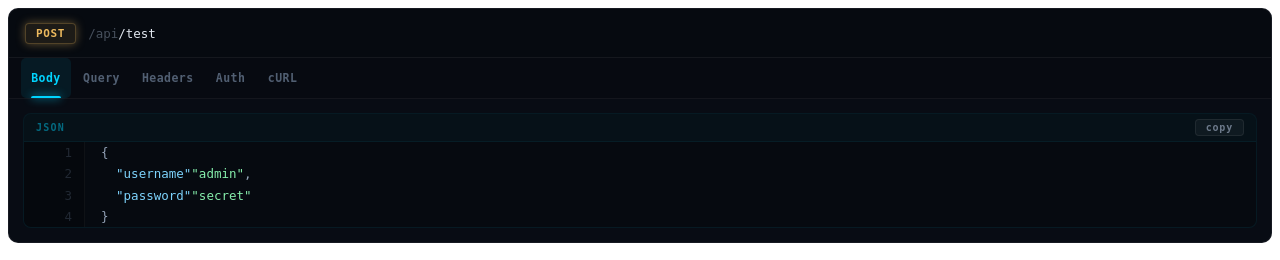
Test case: RequestPanel — masking disabled / selective › shows unmasked values when hideCredentials is false
Click the button "Headers" at [168, 78], box [132, 58, 204, 98]
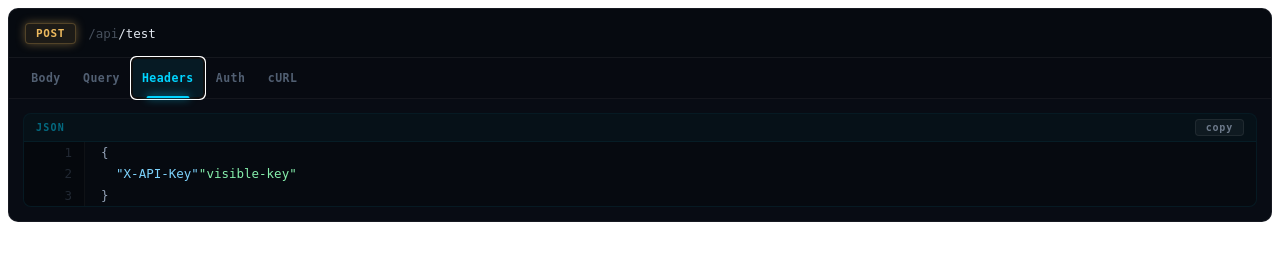
Now the text "\"visible-key\"" is shown, box [199, 166, 297, 181]
